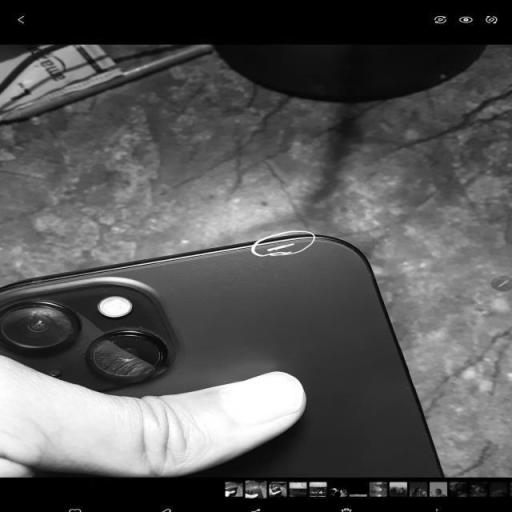phone: (0, 225, 455, 482)
